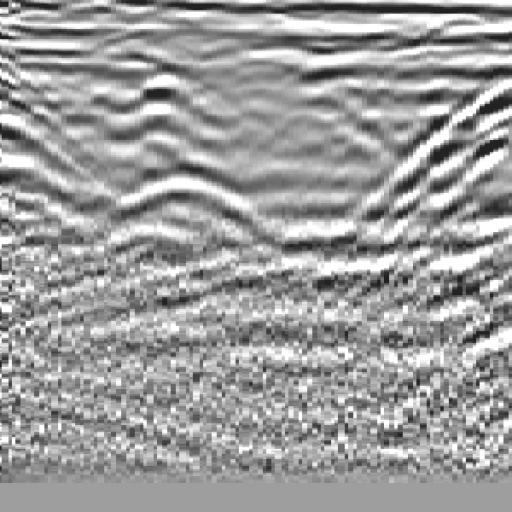metalic: (83, 130, 281, 277)
nonmetalic: (371, 47, 512, 286)
